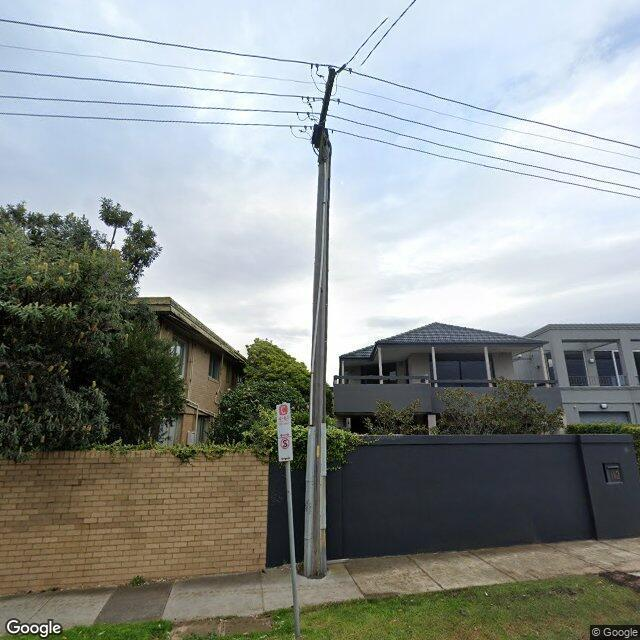crossarm: (288, 61, 353, 141)
timber-pole: (302, 130, 333, 579)
